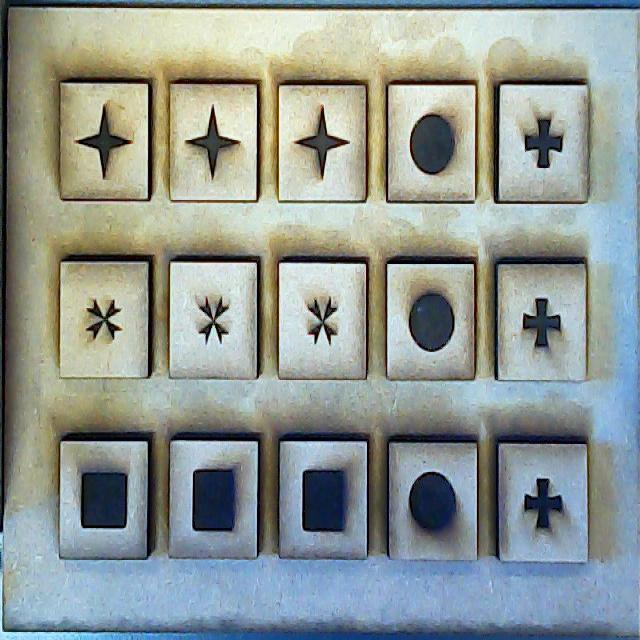circle: (386, 440, 478, 560), (388, 260, 478, 380), (389, 80, 476, 199)
maltese: (278, 259, 367, 377), (60, 258, 148, 376), (173, 261, 260, 380)
square: (279, 442, 370, 562), (170, 441, 261, 558), (61, 442, 149, 562)
star: (171, 80, 261, 205), (62, 84, 151, 201), (280, 80, 366, 200)
temple: (495, 84, 592, 202), (496, 261, 590, 380), (497, 442, 590, 562)
